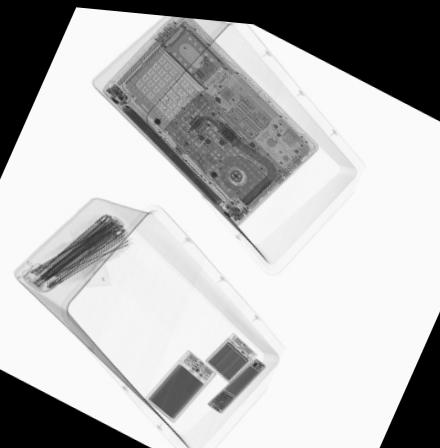Powerbank: (147, 348, 218, 418), (206, 328, 259, 377)
